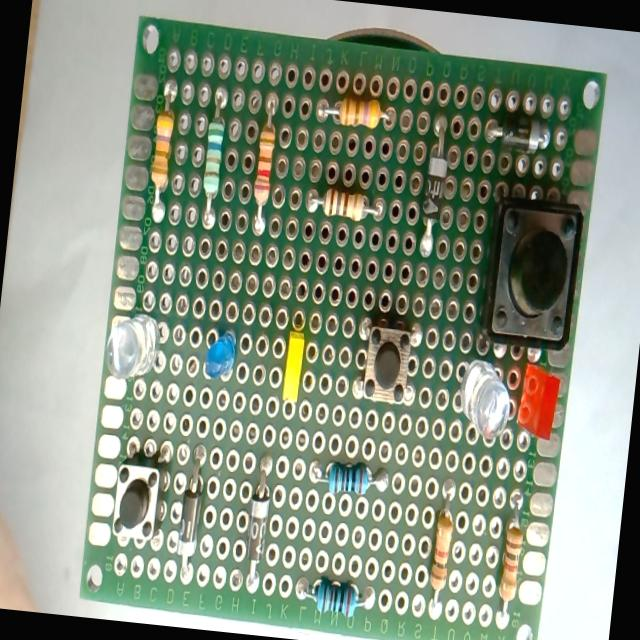diode: (167, 436, 220, 594), (408, 106, 455, 270), (236, 446, 283, 602), (476, 108, 554, 160)
led: (100, 282, 182, 394), (450, 346, 516, 442), (510, 344, 565, 446), (269, 308, 318, 412), (198, 311, 246, 394)
resistor: (192, 79, 234, 242), (421, 470, 464, 622), (144, 68, 182, 228), (492, 482, 530, 634), (247, 91, 285, 236), (305, 450, 394, 506), (290, 570, 378, 624), (301, 184, 389, 232), (314, 90, 400, 136)
switch: (468, 174, 592, 365), (346, 314, 428, 415), (107, 432, 174, 552)
